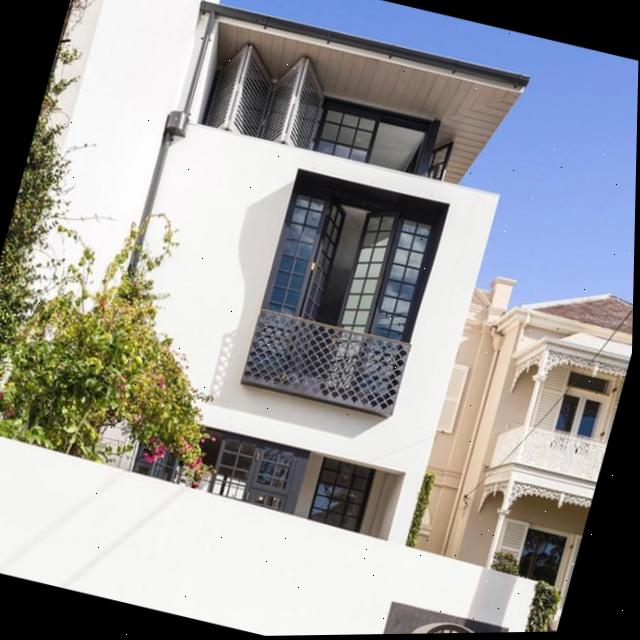building: (0, 0, 543, 557), (405, 253, 634, 590)
